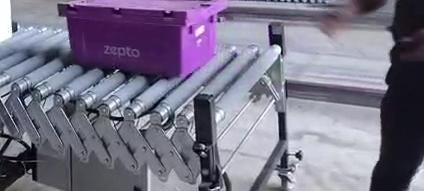box: (65, 0, 226, 76)
